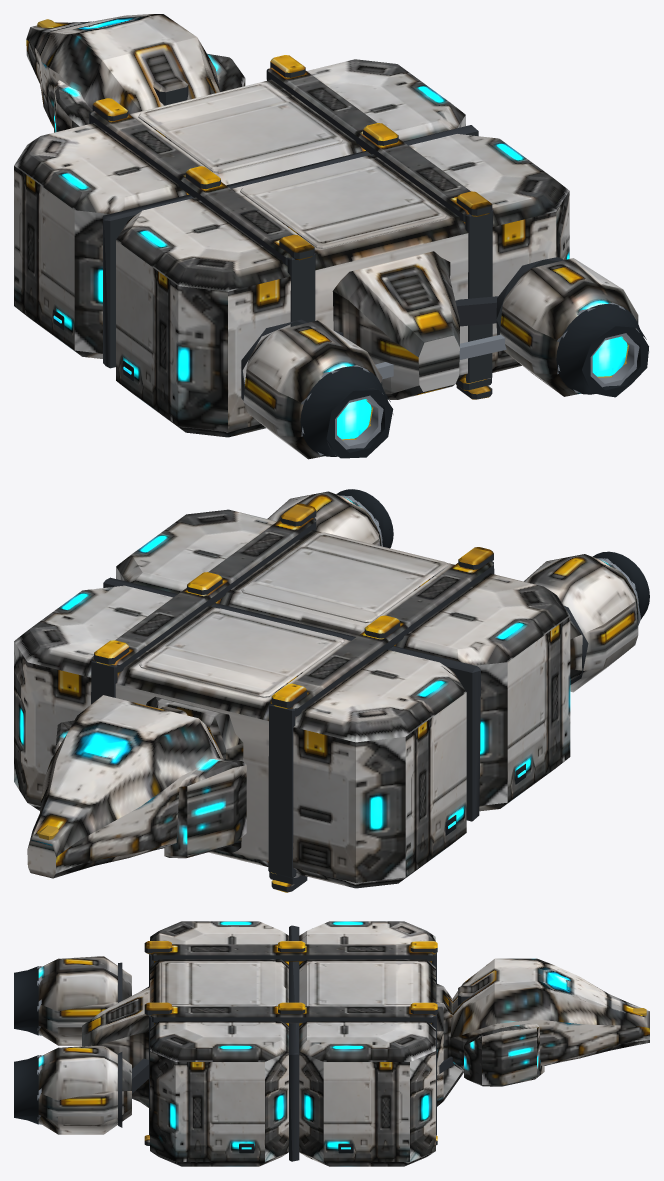
File: tiny-freighter-lod2.glb
The picture shows the model from 3 angles, top to bottom: view 1: azimuth 30°, elevation 25°; view 2: azimuth 150°, elevation 25°; view 3: azimuth 270°, elevation 25°; orthographic projection. The views are drawn at different scales.
Parts seen in each view (by area): view 1: Static / Reference artwork | titanium, brass, panels and can, Static / Structural frames | gunmetal, Static / Structural rails | dark alloy, Static / Ventral armor | dedicated bottom-view reference, Static / Machined titanium edges; view 2: Static / Reference artwork | titanium, brass, panels and can, Static / Structural frames | gunmetal, Static / Ventral armor | dedicated bottom-view reference, Static / Structural rails | dark alloy; view 3: Static / Reference artwork | titanium, brass, panels and can, Static / Structural frames | gunmetal, Static / Ventral armor | dedicated bottom-view reference, Static / Structural rails | dark alloy.
Boxes of the visible parts, bbox=[...] form: Static / Reference artwork | titanium, brass, panels and can: bbox=[14, 14, 638, 439]; Static / Structural frames | gunmetal: bbox=[89, 62, 564, 449]; Static / Structural rails | dark alloy: bbox=[53, 304, 648, 458]; Static / Ventral armor | dedicated bottom-view reference: bbox=[17, 146, 580, 459]; Static / Machined titanium edges: bbox=[301, 302, 639, 455]; Static / Reference artwork | titanium, brass, panels and can: bbox=[14, 491, 638, 882]; Static / Structural frames | gunmetal: bbox=[91, 510, 588, 891]; Static / Ventral armor | dedicated bottom-view reference: bbox=[28, 596, 637, 892]; Static / Structural rails | dark alloy: bbox=[336, 489, 649, 835]; Static / Reference artwork | titanium, brass, panels and can: bbox=[38, 921, 649, 1161]; Static / Structural frames | gunmetal: bbox=[118, 925, 469, 1161]; Static / Ventral armor | dedicated bottom-view reference: bbox=[38, 952, 649, 1166]; Static / Structural rails | dark alloy: bbox=[14, 966, 353, 1153].
Bounding box in the file's own units: 7.65 × 3.61 × 14.98.
7 materials, 2 textured.
